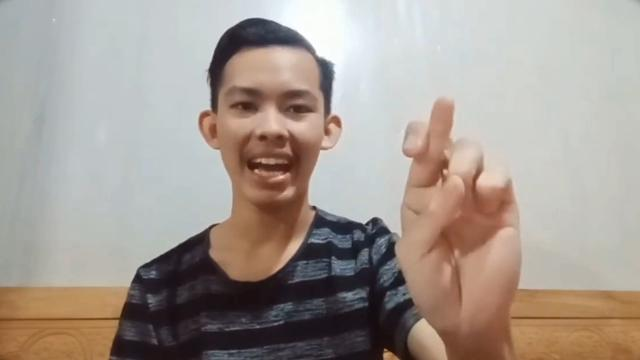R: (392, 85, 528, 333)
